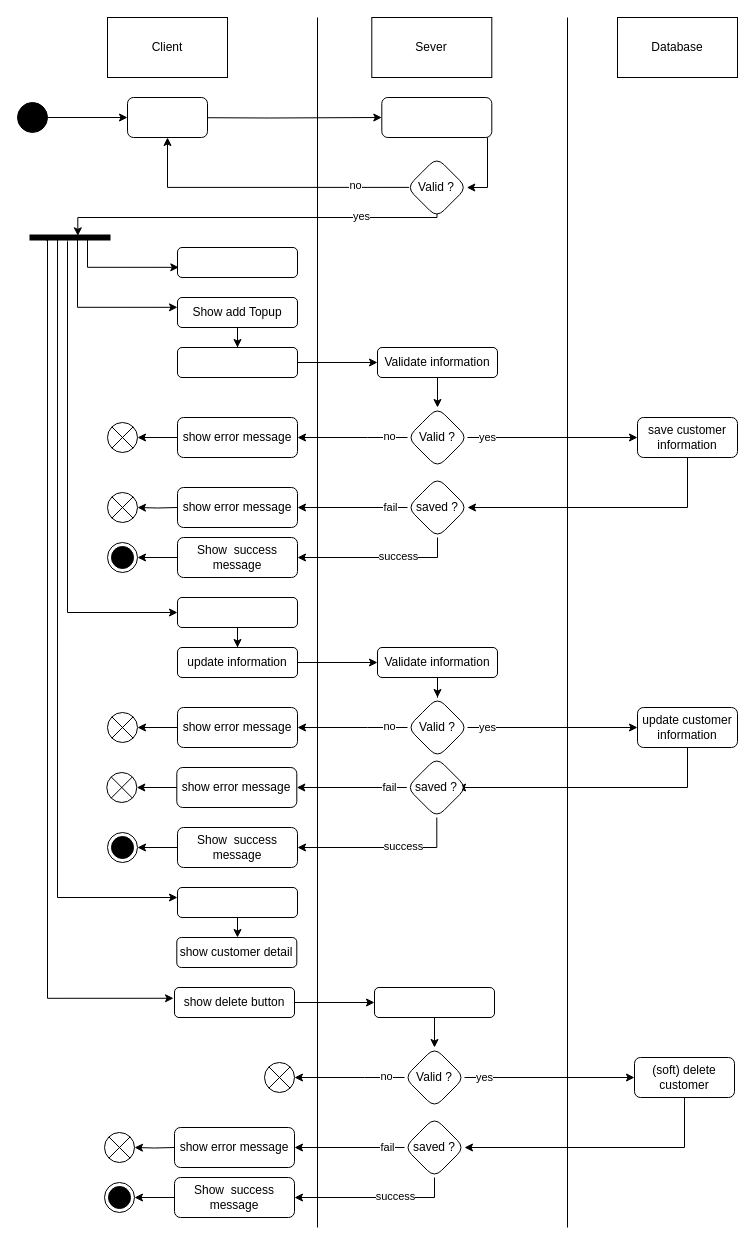
Image size: 755x1246. Some labels were removed from this diagram. The centre of each missing label's shape, as x and y in pixels:
confirmation: the point at 434,1002
Fill require and select information: the point at 237,362
Show edit customer button: the point at 237,612
Show Login: the point at 167,117
Show top-up list: the point at 237,262
Show view customer button: the point at 237,902
verify user name and passowrd: the point at 436,117
